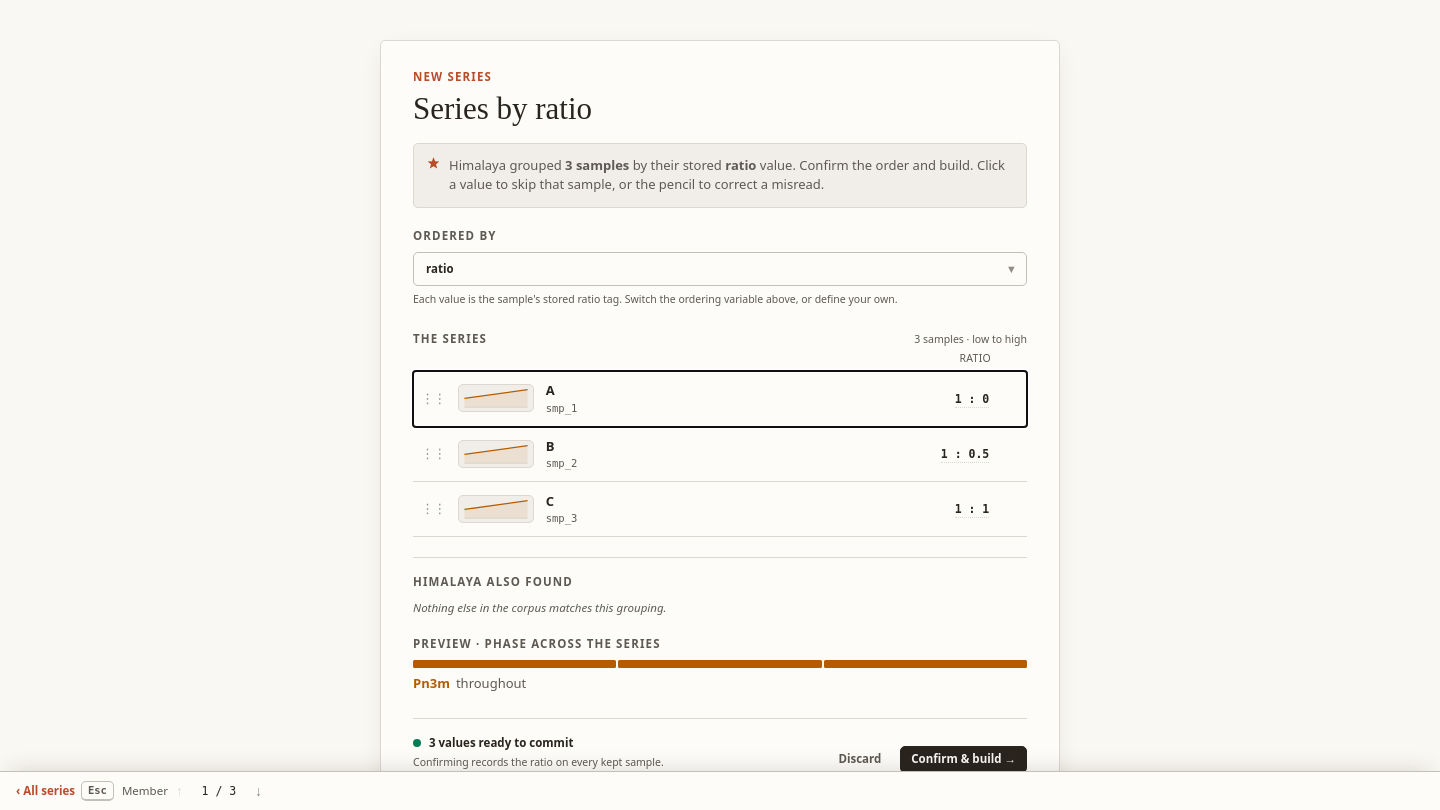
Test case: SeriesScopingPage › SC-PROV: the header count acknowledges a skip so it reconciles with the foot (no silent divergence)
This screenshot has width=1440, height=810.
Expected: the text "3 samples · low to high" is shown, [914, 332, 1027, 346]
Click the button with test id "flag-button" at (943, 454), box [897, 442, 989, 466]
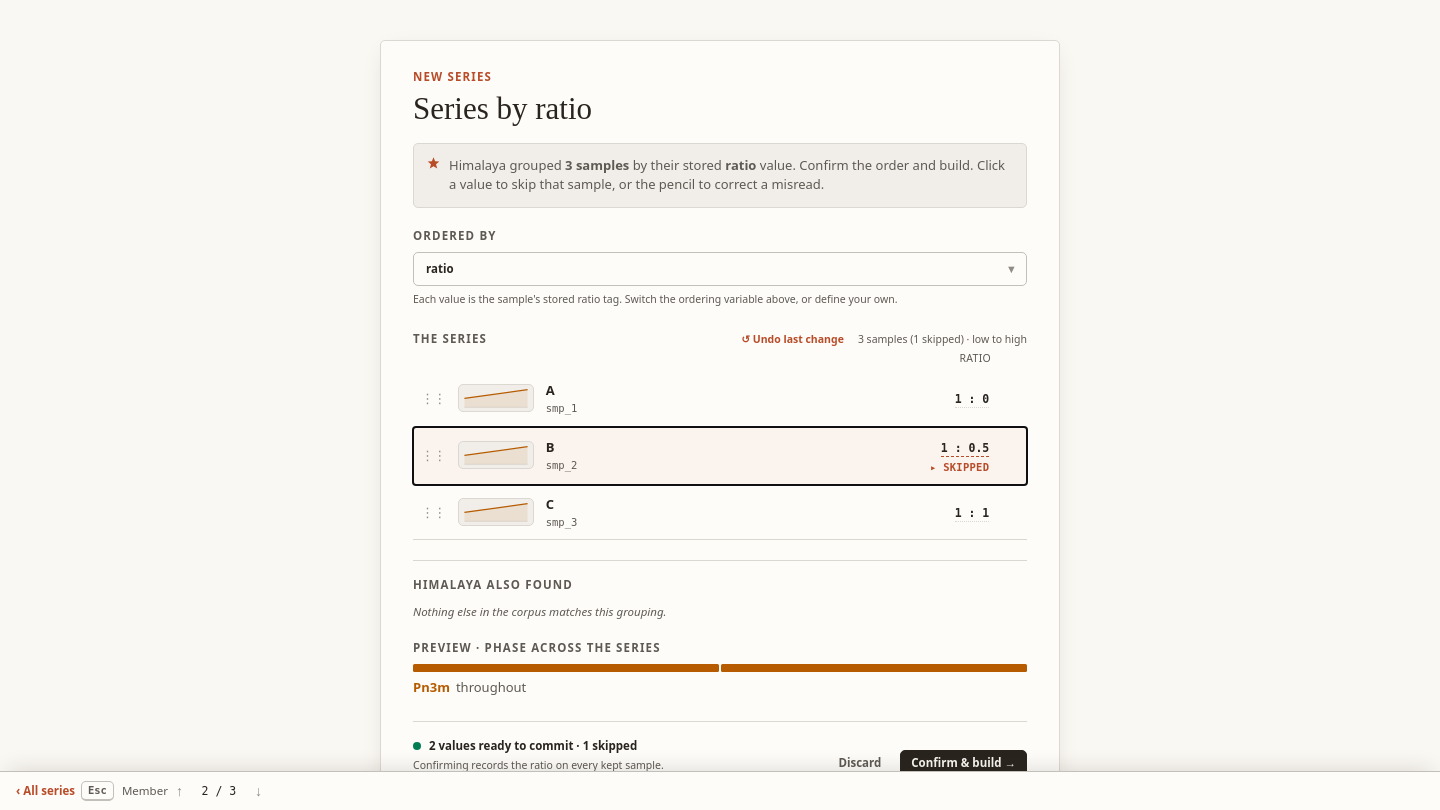
Expected: the text "2 values ready to commit · 1 skipped" is shown, [413, 738, 665, 754]
Expected: the text "3 samples (1 skipped) · low to high" is shown, [858, 332, 1027, 346]
